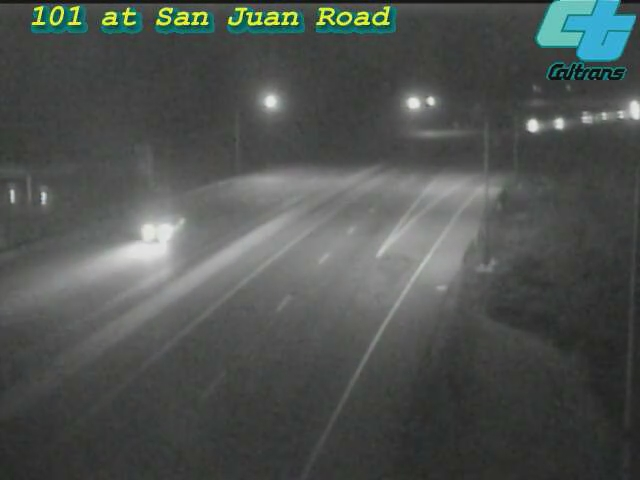vehicle: (115, 193, 195, 273), (581, 91, 631, 141), (563, 93, 613, 143), (538, 98, 588, 148), (508, 101, 558, 151), (597, 90, 640, 140), (609, 85, 640, 135)
